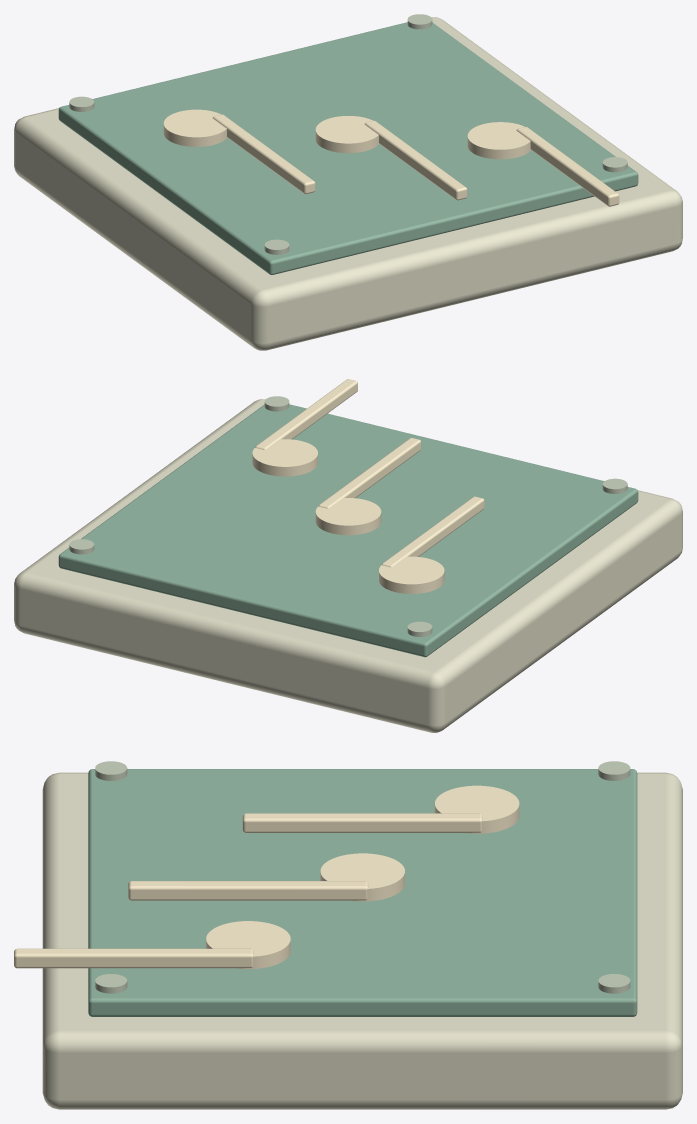
Rendered from enchanted-harp-garden-and-music-sanctuary-tone-sequenc-74402fc5__30431.glb.
The picture shows the model from 3 angles, top to bottom: view 1: azimuth 30°, elevation 25°; view 2: azimuth 150°, elevation 25°; view 3: azimuth 270°, elevation 25°; orthographic projection. The views are drawn at different scales.
Visible parts, largest first — view 1: tone-sequence-tile; view 2: tone-sequence-tile; view 3: tone-sequence-tile.
Boxes of the visible parts, x1,y1,x2,y2 form: tone-sequence-tile: (14, 14, 682, 350); tone-sequence-tile: (14, 379, 682, 732); tone-sequence-tile: (14, 761, 682, 1109).
Bounding box in the file's own units: 0.56 × 0.107 × 0.585.
